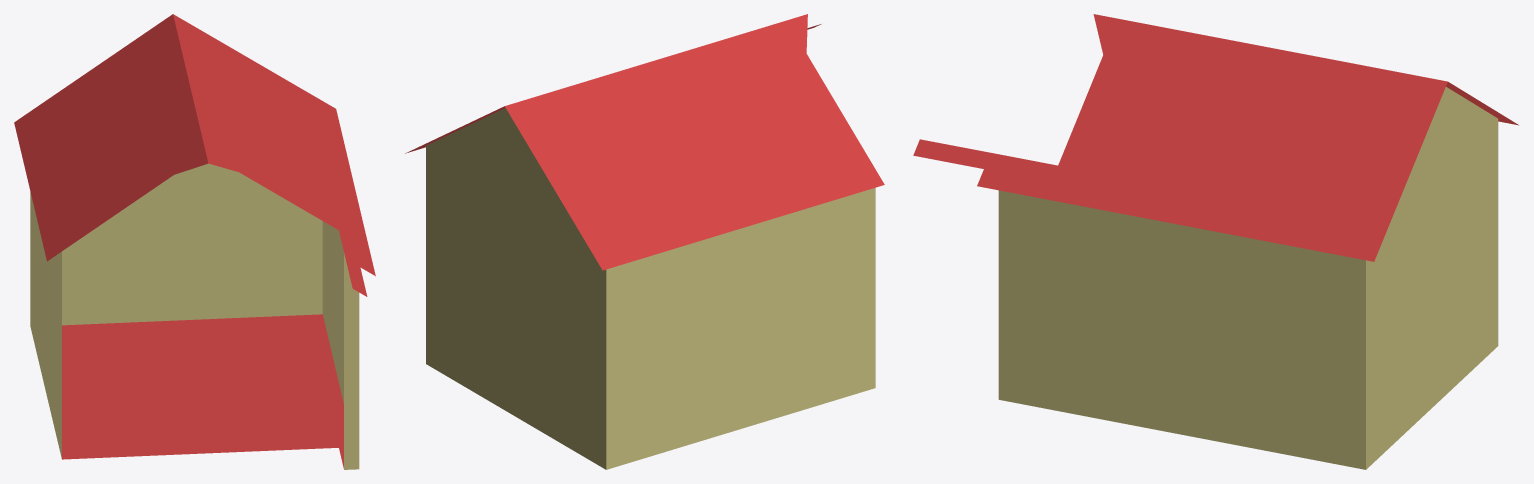
3 renders of one model, left to right at view 1: azimuth 30°, elevation 25°; view 2: azimuth 150°, elevation 25°; view 3: azimuth 270°, elevation 25°, orthographic. The views are drawn at different scales.
Bounding box in the file's own units: 14.44 × 18.57 × 11.1.
